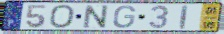3: (148, 4, 170, 30)
5: (26, 4, 48, 29)
G: (112, 5, 137, 29)
I: (179, 4, 190, 30)
N: (82, 4, 110, 30)
O: (48, 4, 77, 29)
